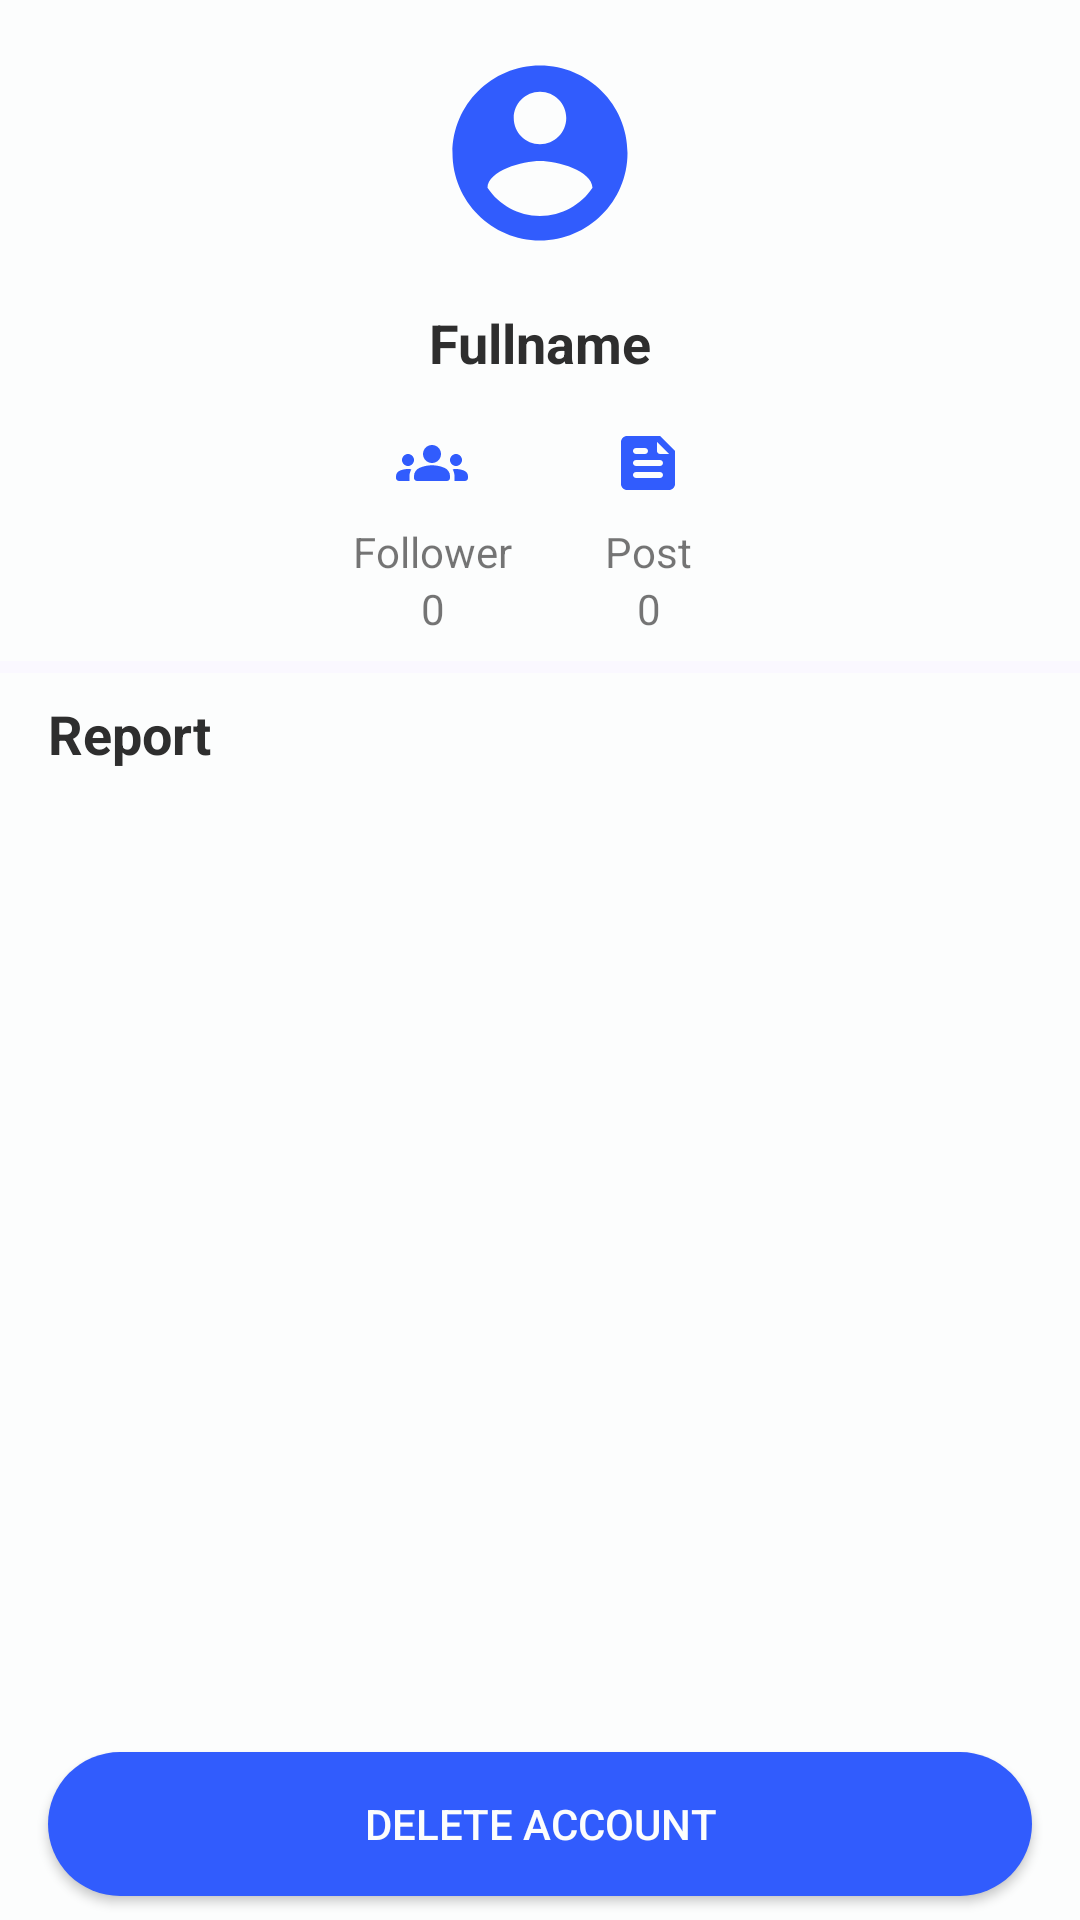

Where icons sit on this 1080px x 1920px app screen, as (x1, y1, x2, y2):
profile: (452, 65, 628, 241)
